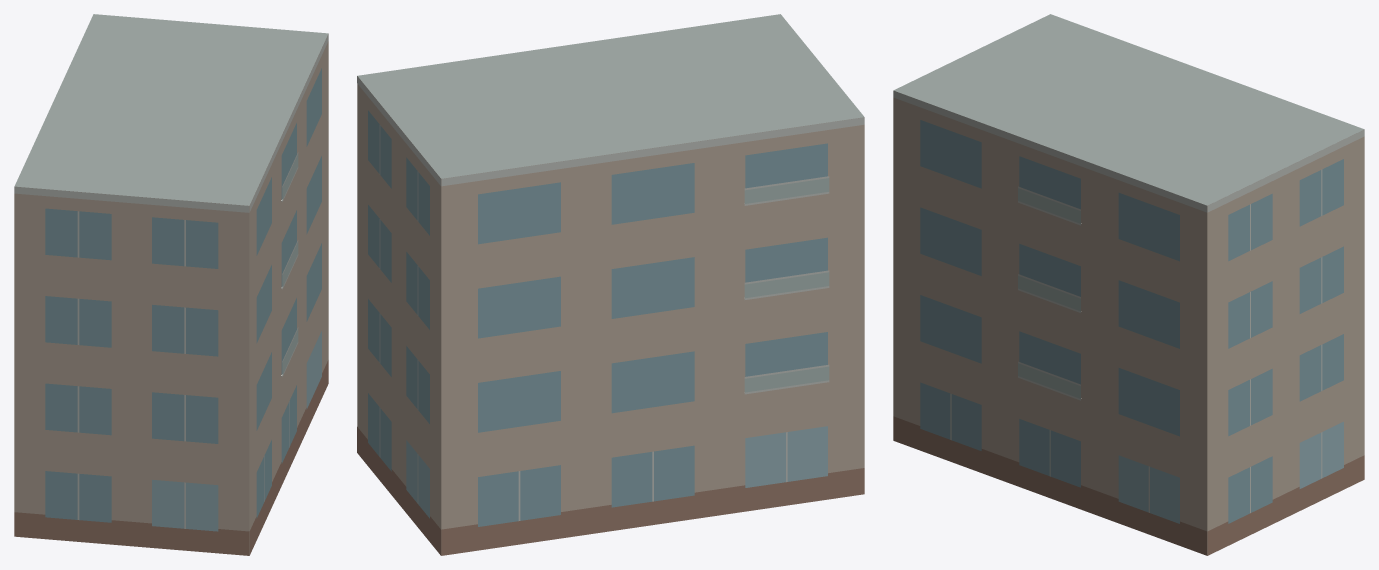
The model's file is residential-8f5eb61a-5e3c-473b-96c7-8cc07a4358bc.glb.
The picture shows the model from 3 angles, left to right: view 1: azimuth 30°, elevation 25°; view 2: azimuth 150°, elevation 25°; view 3: azimuth 270°, elevation 25°; orthographic projection. The views are drawn at different scales.
Parts seen in each view (by area): view 1: residential-8f5eb61a-5e3c-473b-96c7-8cc07a4358bc.tmp; view 2: residential-8f5eb61a-5e3c-473b-96c7-8cc07a4358bc.tmp; view 3: residential-8f5eb61a-5e3c-473b-96c7-8cc07a4358bc.tmp.
Boxes of the visible parts, box(x1,y1,x2,y2) form: residential-8f5eb61a-5e3c-473b-96c7-8cc07a4358bc.tmp: box(14, 14, 328, 555); residential-8f5eb61a-5e3c-473b-96c7-8cc07a4358bc.tmp: box(357, 14, 864, 555); residential-8f5eb61a-5e3c-473b-96c7-8cc07a4358bc.tmp: box(893, 14, 1364, 555).
Bounding box in the file's own units: 14.33 × 12.2 × 14.89.
